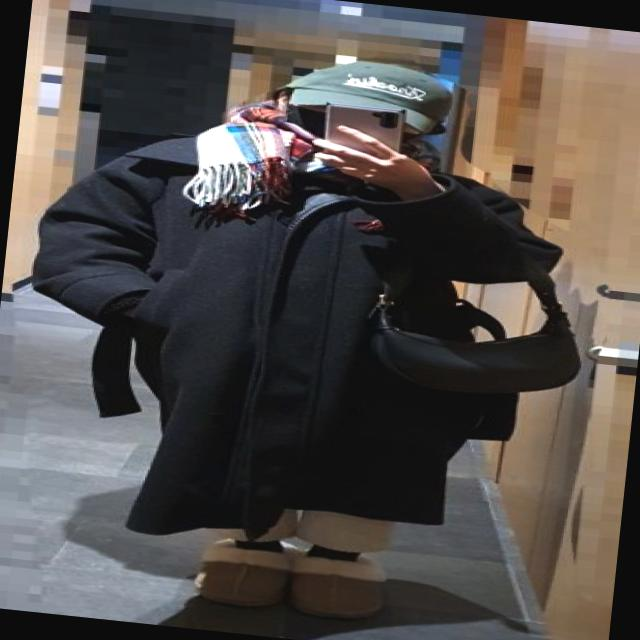coat: (2, 109, 567, 576)
